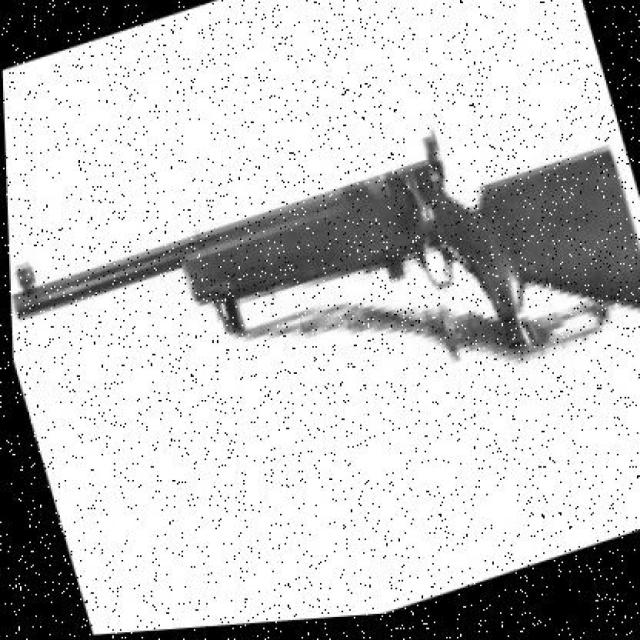weapon: (9, 135, 640, 357)
